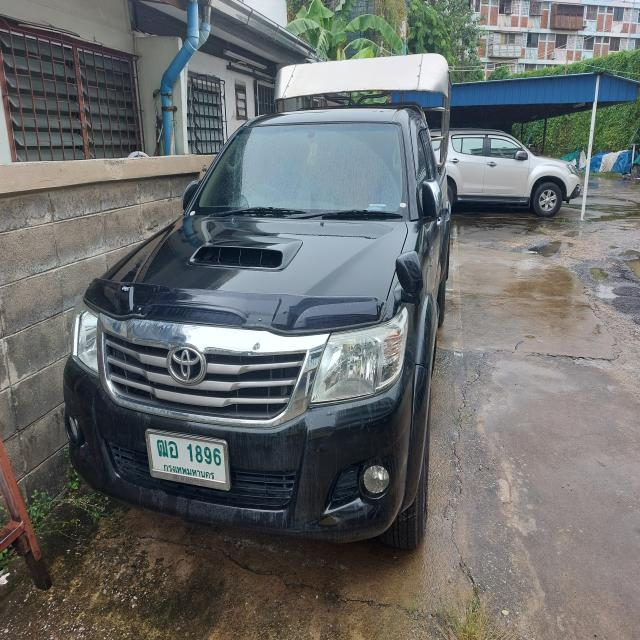license_plate: (145, 426, 232, 492)
